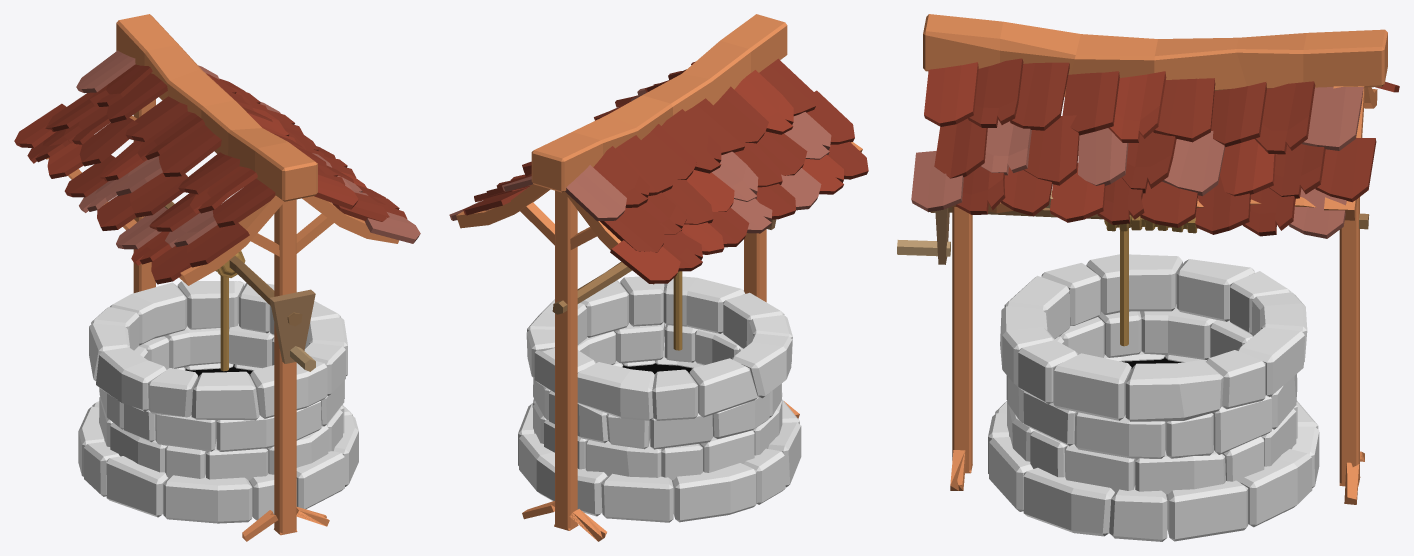
Rendered from Pozo.fbx.
3 renders of one model, left to right at view 1: azimuth 30°, elevation 25°; view 2: azimuth 150°, elevation 25°; view 3: azimuth 270°, elevation 25°, orthographic. The views are drawn at different scales.
Parts seen in each view (by area): view 1: Cube.008; view 2: Cube.008; view 3: Cube.008.
Boxes of the visible parts, x1,y1,x2,y2 form: Cube.008: [14, 14, 420, 541]; Cube.008: [449, 14, 868, 541]; Cube.008: [897, 14, 1399, 541].
Size of the model in its own units: 3.49 by 4.68 by 4.77.
